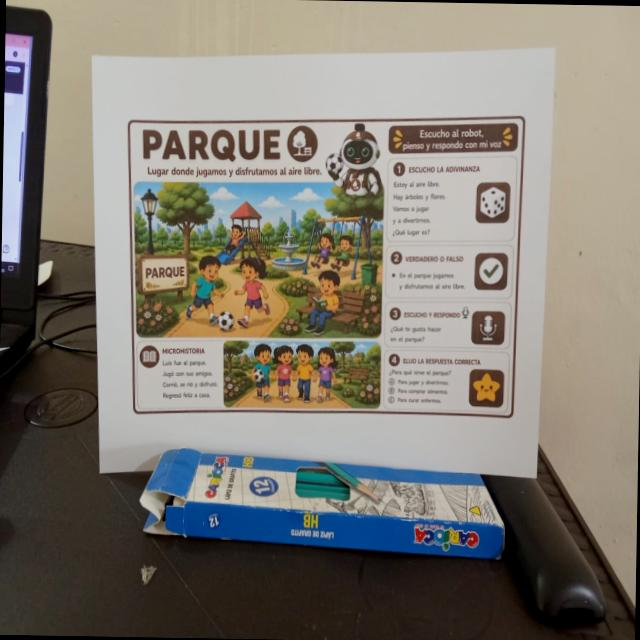parque: (118, 103, 530, 426)
